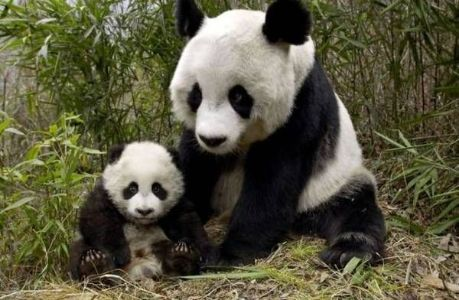bear: (168, 1, 390, 269), (75, 137, 212, 281)
